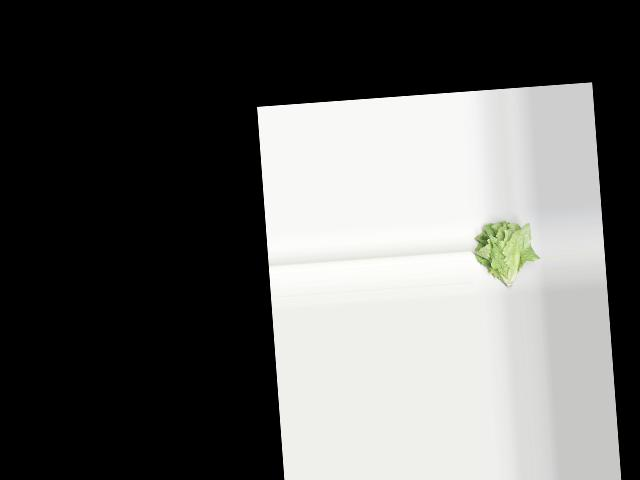lettuce: (471, 217, 541, 291)
